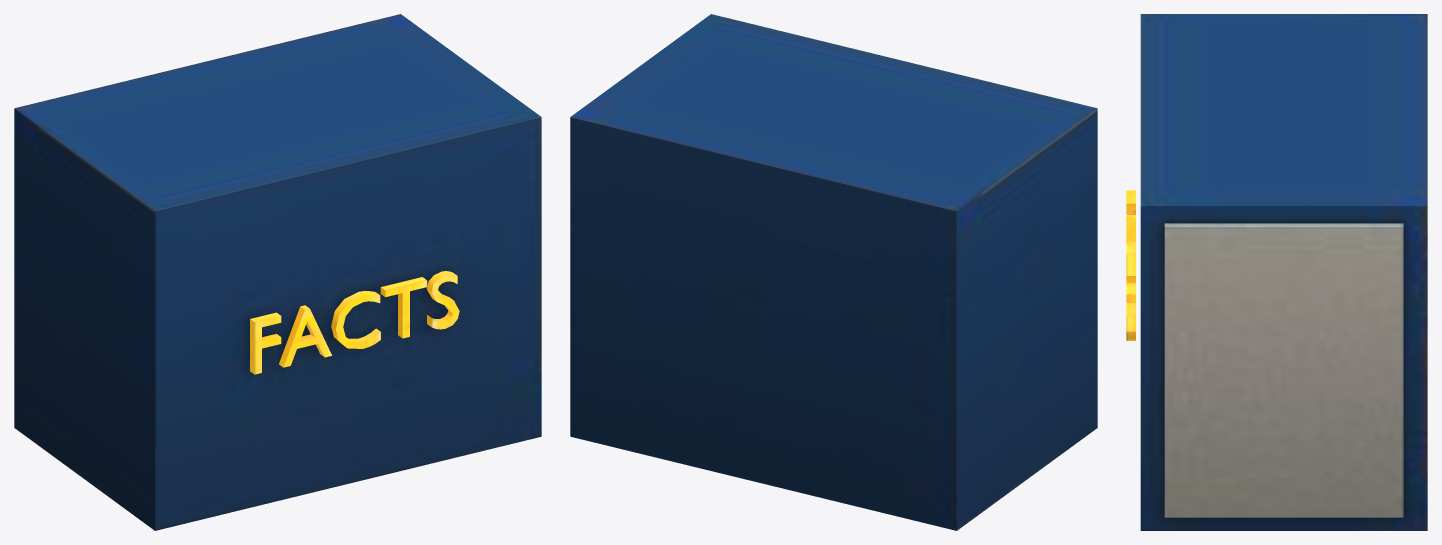
Rendered from libro_gordo.glb.
3 views of the same model, side by side, from view 1: azimuth 30°, elevation 25°; view 2: azimuth 150°, elevation 25°; view 3: azimuth 270°, elevation 25° (orthographic).
Parts seen in each view (by area): view 1: libro_gordo; view 2: libro_gordo; view 3: libro_gordo.
Boxes of the visible parts, x1=… form: libro_gordo: x1=14, y1=14, x2=541, y2=530; libro_gordo: x1=570, y1=14, x2=1097, y2=530; libro_gordo: x1=1126, y1=14, x2=1427, y2=530.
Bounding box in the file's own units: 0.97 × 0.75 × 0.63.
Materials: 1 (1 with a texture image).
